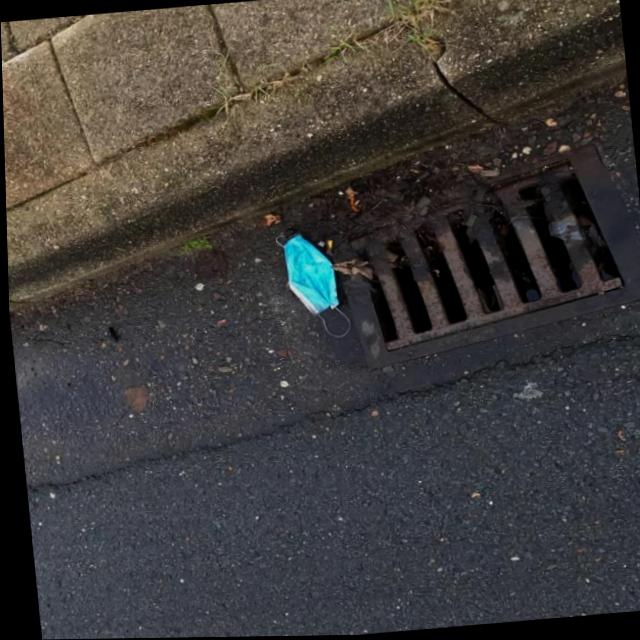Mask: (271, 224, 354, 346)
